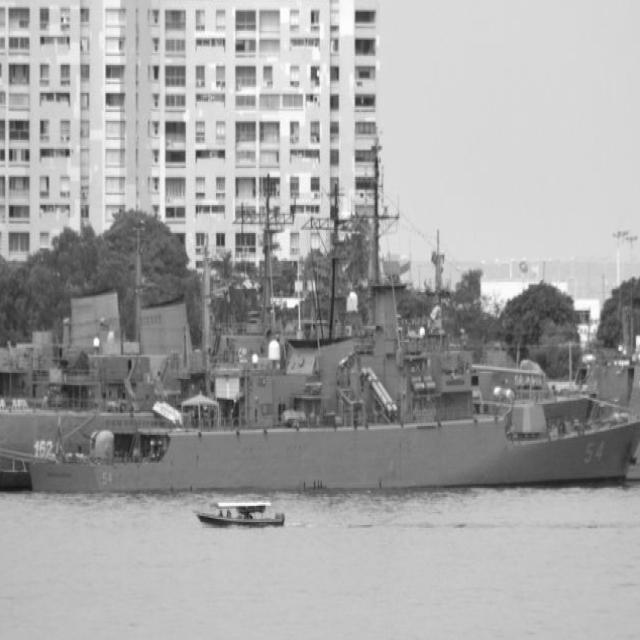Fragata: (1, 145, 640, 501)
